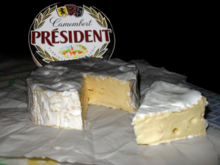camembert: (25, 57, 140, 133), (131, 80, 209, 147)
